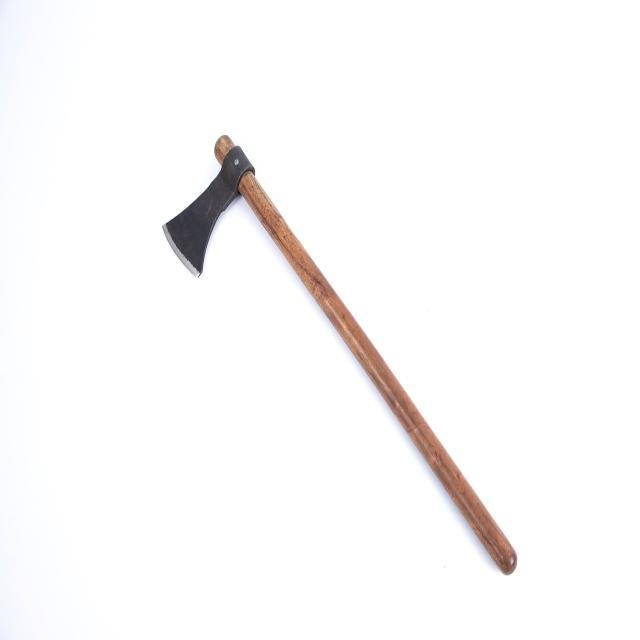Axe: (164, 136, 516, 574)
